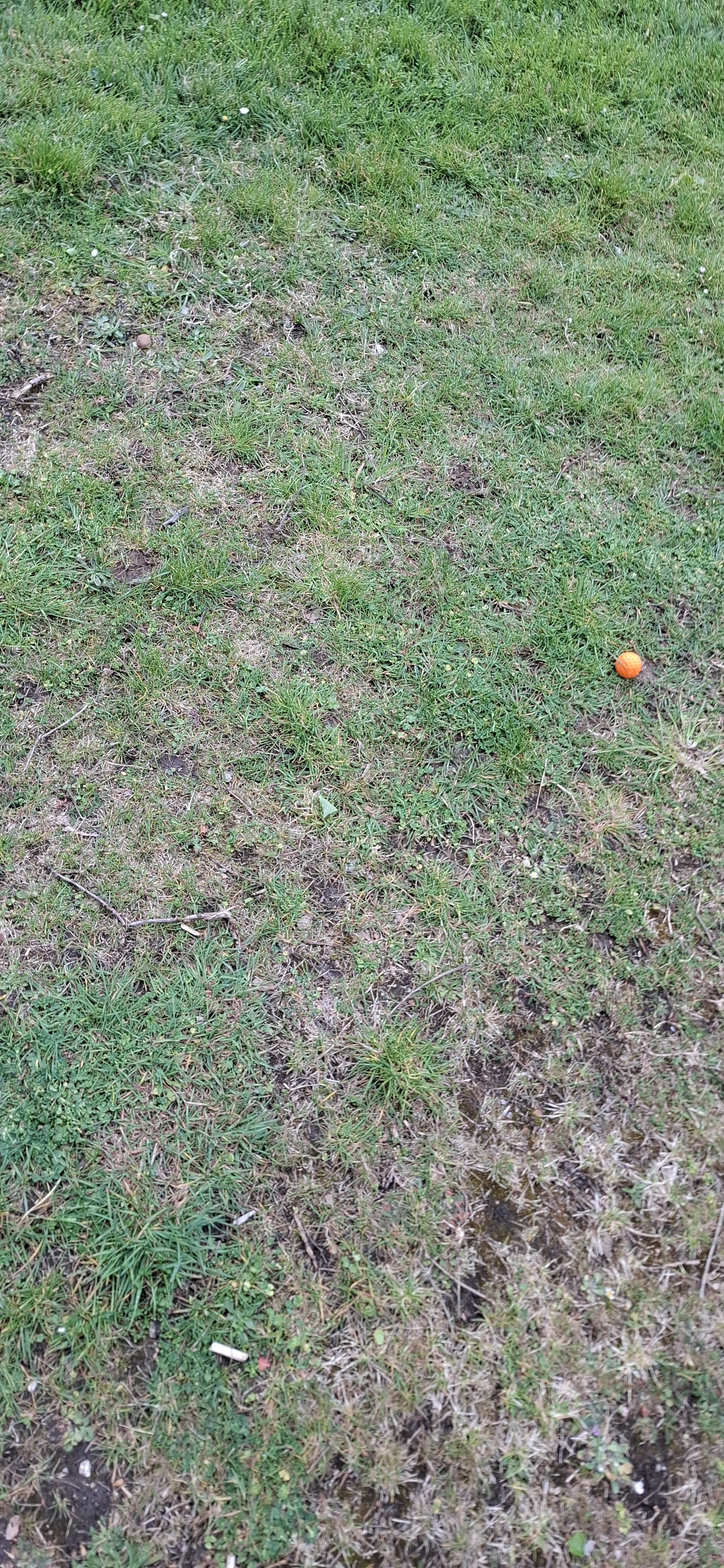ball: (301, 177, 314, 236)
